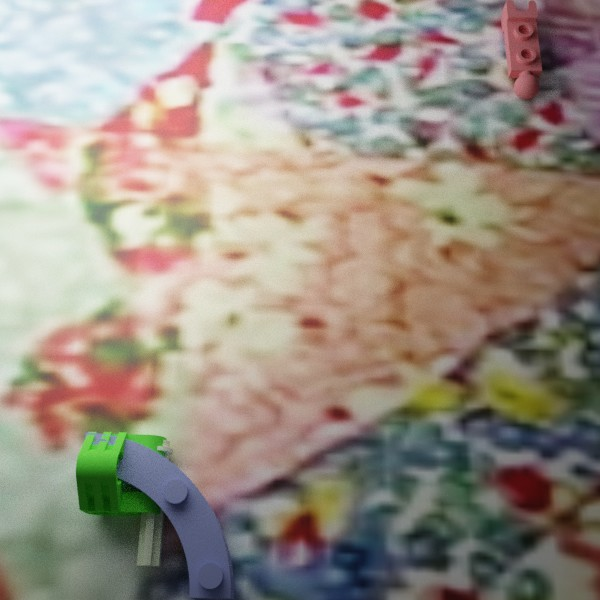lego: (81, 432, 234, 600), (75, 431, 166, 516), (136, 439, 173, 566), (501, 0, 542, 99)
